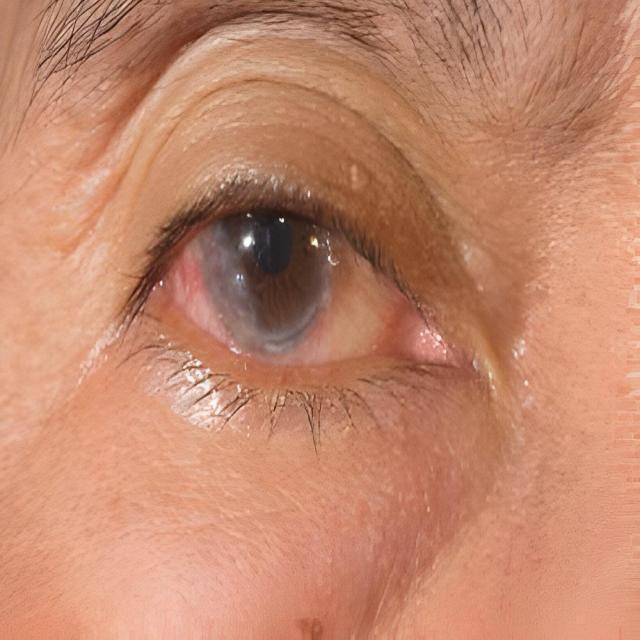Pterygium: (139, 214, 277, 348)
